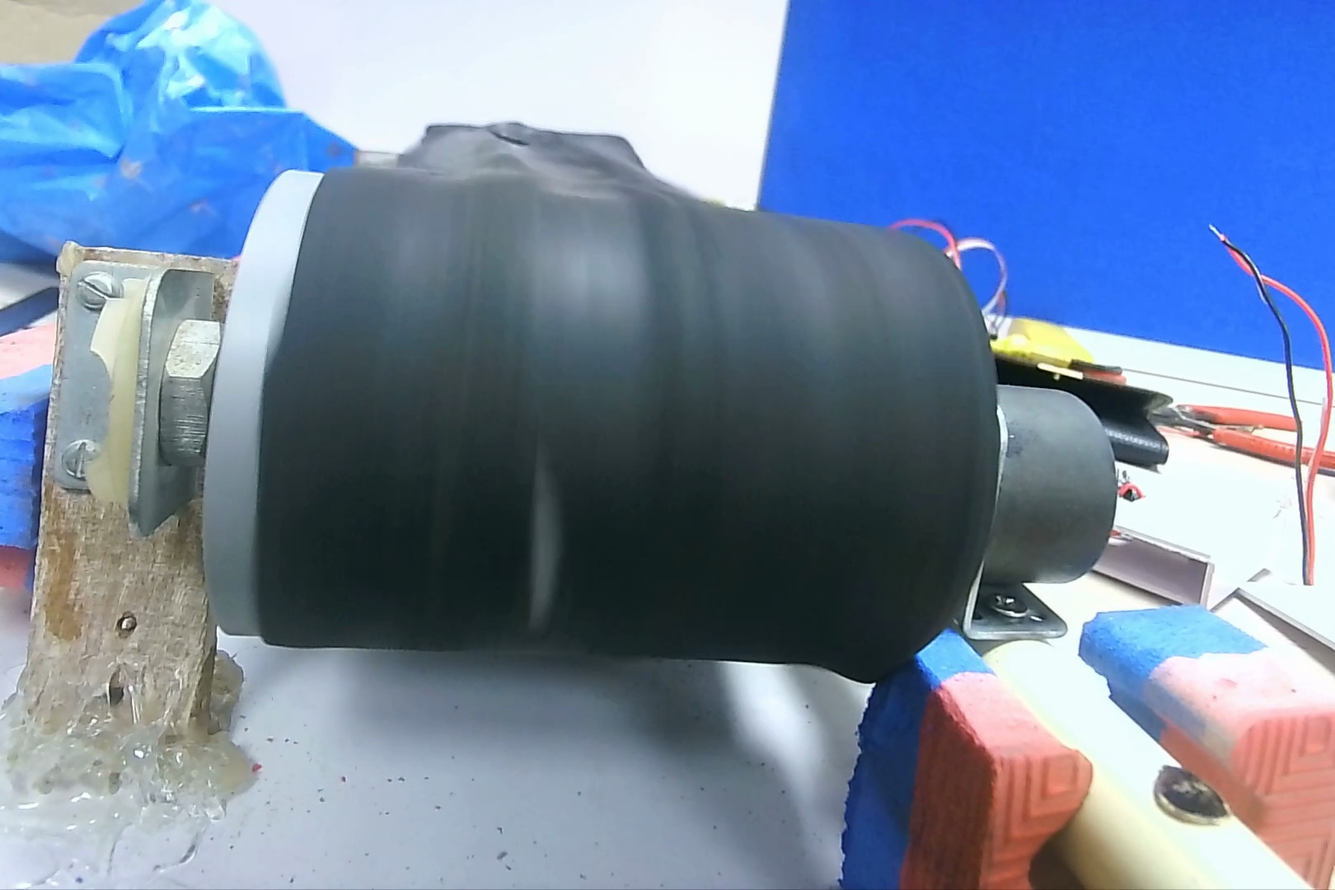tear: (530, 420, 562, 640)
